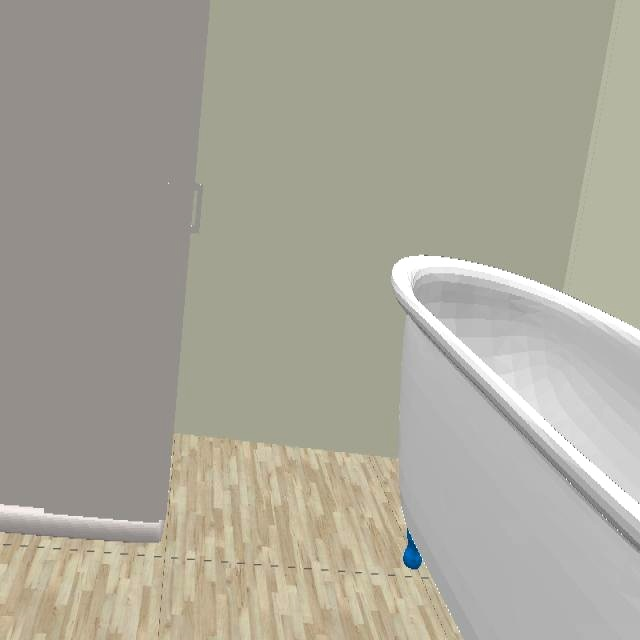bathtube: (389, 255, 640, 640)
shower: (0, 0, 209, 545)
